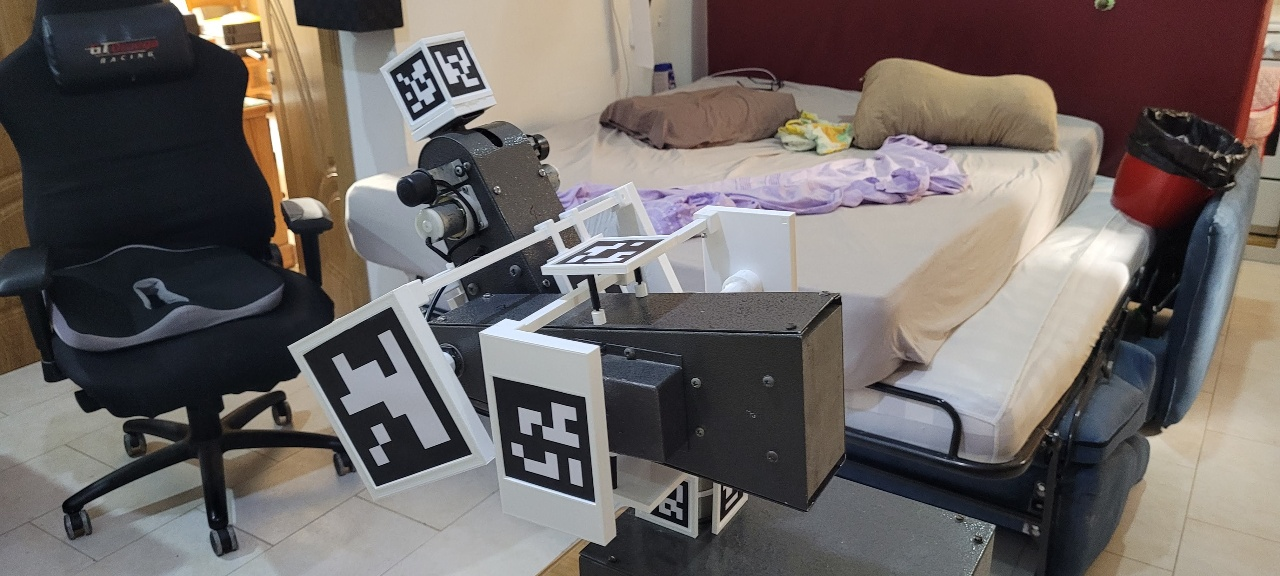Robot: (285, 29, 849, 549)
